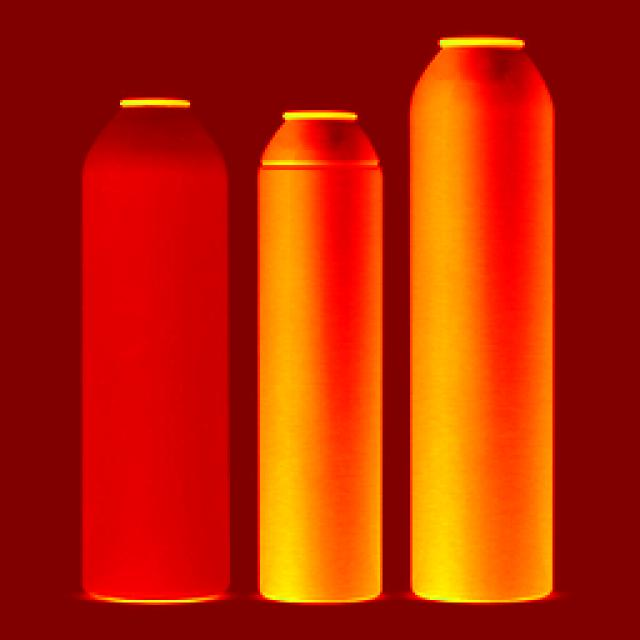Aerosol Cans: (409, 27, 578, 606), (82, 87, 250, 640), (252, 97, 413, 640)
